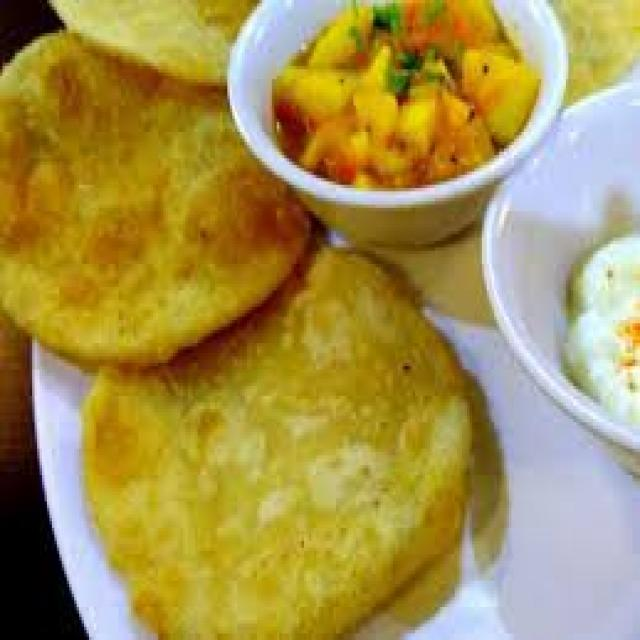puri: (3, 45, 236, 620), (100, 301, 500, 624)
